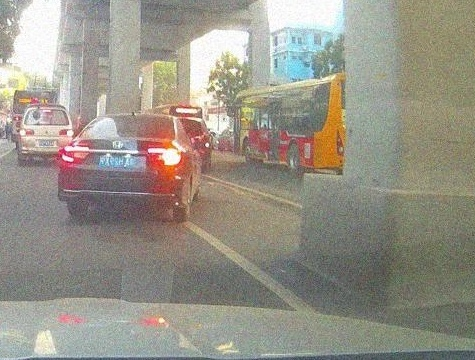L_light: (61, 146, 90, 165)
R_light: (148, 147, 181, 167)
T_light: (110, 135, 132, 138)
day-right: (58, 113, 183, 222)
